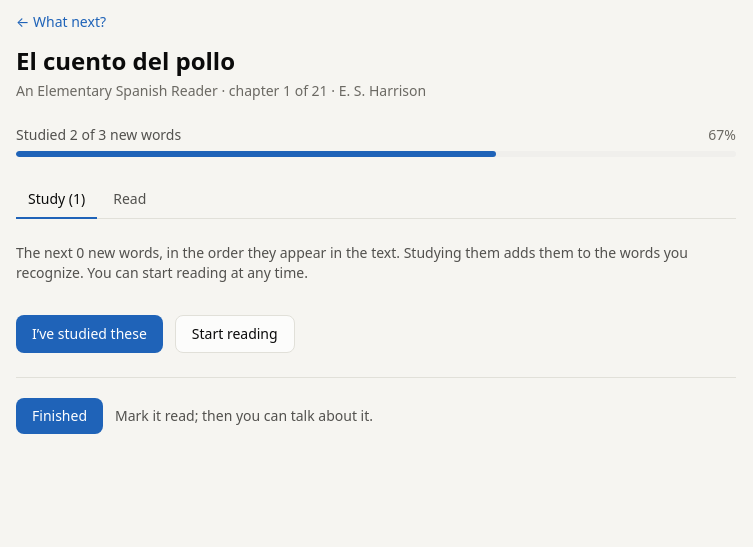
Scenario: Reading › reads the text with unstudied words underlined and the studied part marked
Click the tab "Read" at (130, 200), box top-left (101, 181), bottom-right (158, 219)
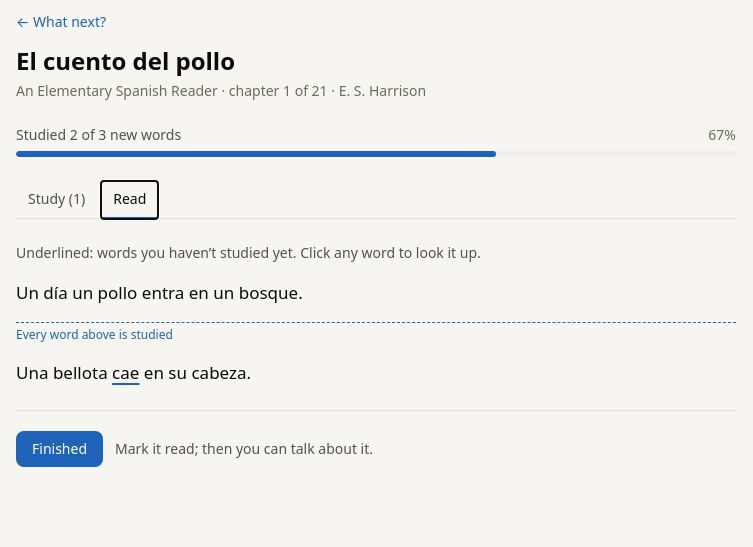
Now the text "Every word above is studied" is shown, box top-left (16, 322), bottom-right (736, 343)
Click the button "cae" at (126, 373), box top-left (112, 359), bottom-right (139, 386)
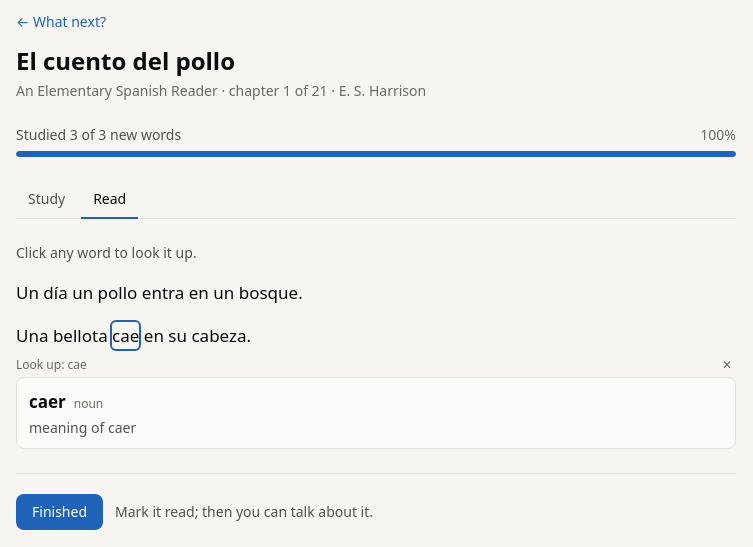
Now the text "meaning of caer" is shown, box top-left (29, 418), bottom-right (136, 437)
